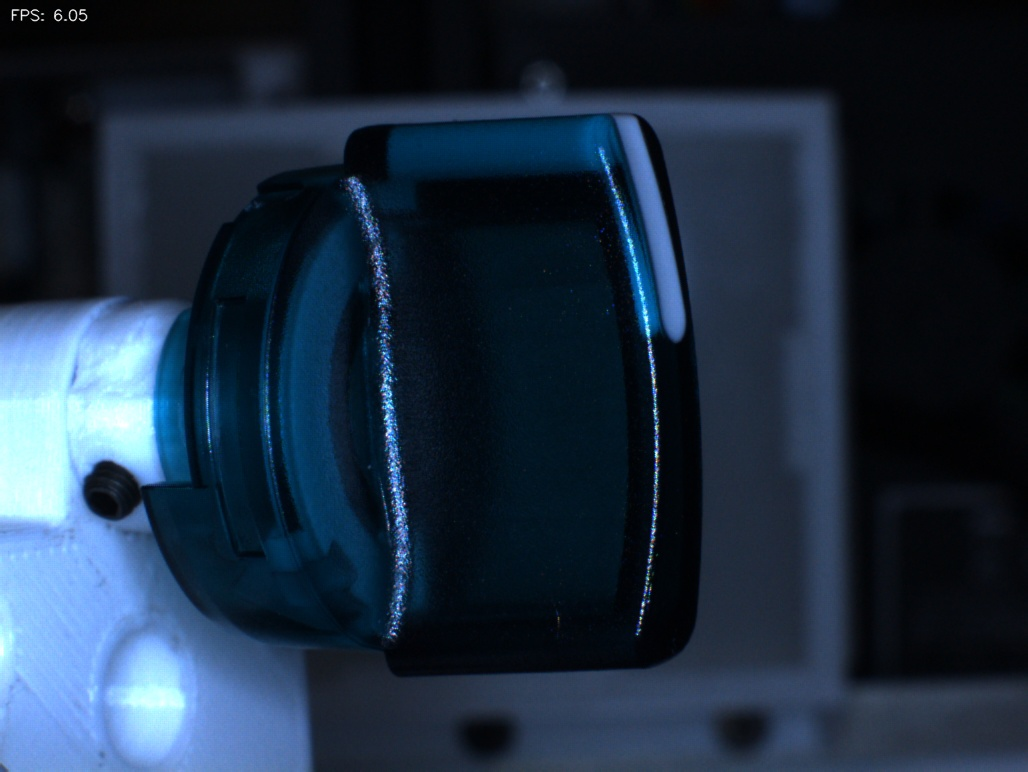Givrage: (526, 583, 606, 665)
